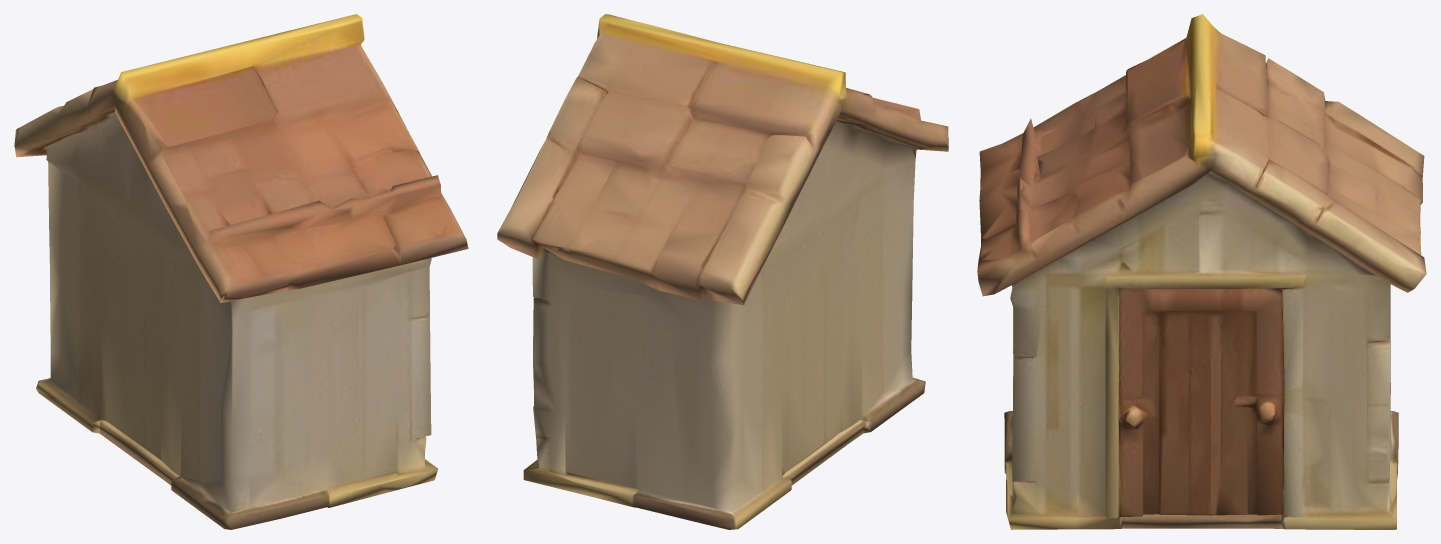
Rendered from shed.glb.
The picture shows the model from 3 angles, left to right: view 1: azimuth 30°, elevation 25°; view 2: azimuth 150°, elevation 25°; view 3: azimuth 270°, elevation 25°; orthographic projection. The views are drawn at different scales.
Parts seen in each view (by area): view 1: tripo_node_46ab12a0-f0b9-4571-9765-a952cbb73c3b; view 2: tripo_node_46ab12a0-f0b9-4571-9765-a952cbb73c3b; view 3: tripo_node_46ab12a0-f0b9-4571-9765-a952cbb73c3b.
Part boxes in pixels (x1,y1,x2,y2): tripo_node_46ab12a0-f0b9-4571-9765-a952cbb73c3b: [14, 14, 468, 529]; tripo_node_46ab12a0-f0b9-4571-9765-a952cbb73c3b: [497, 14, 948, 529]; tripo_node_46ab12a0-f0b9-4571-9765-a952cbb73c3b: [977, 14, 1426, 529].
Size of the model in its own units: 0.6484 by 0.9964 by 1.
1 material, 1 textured.
